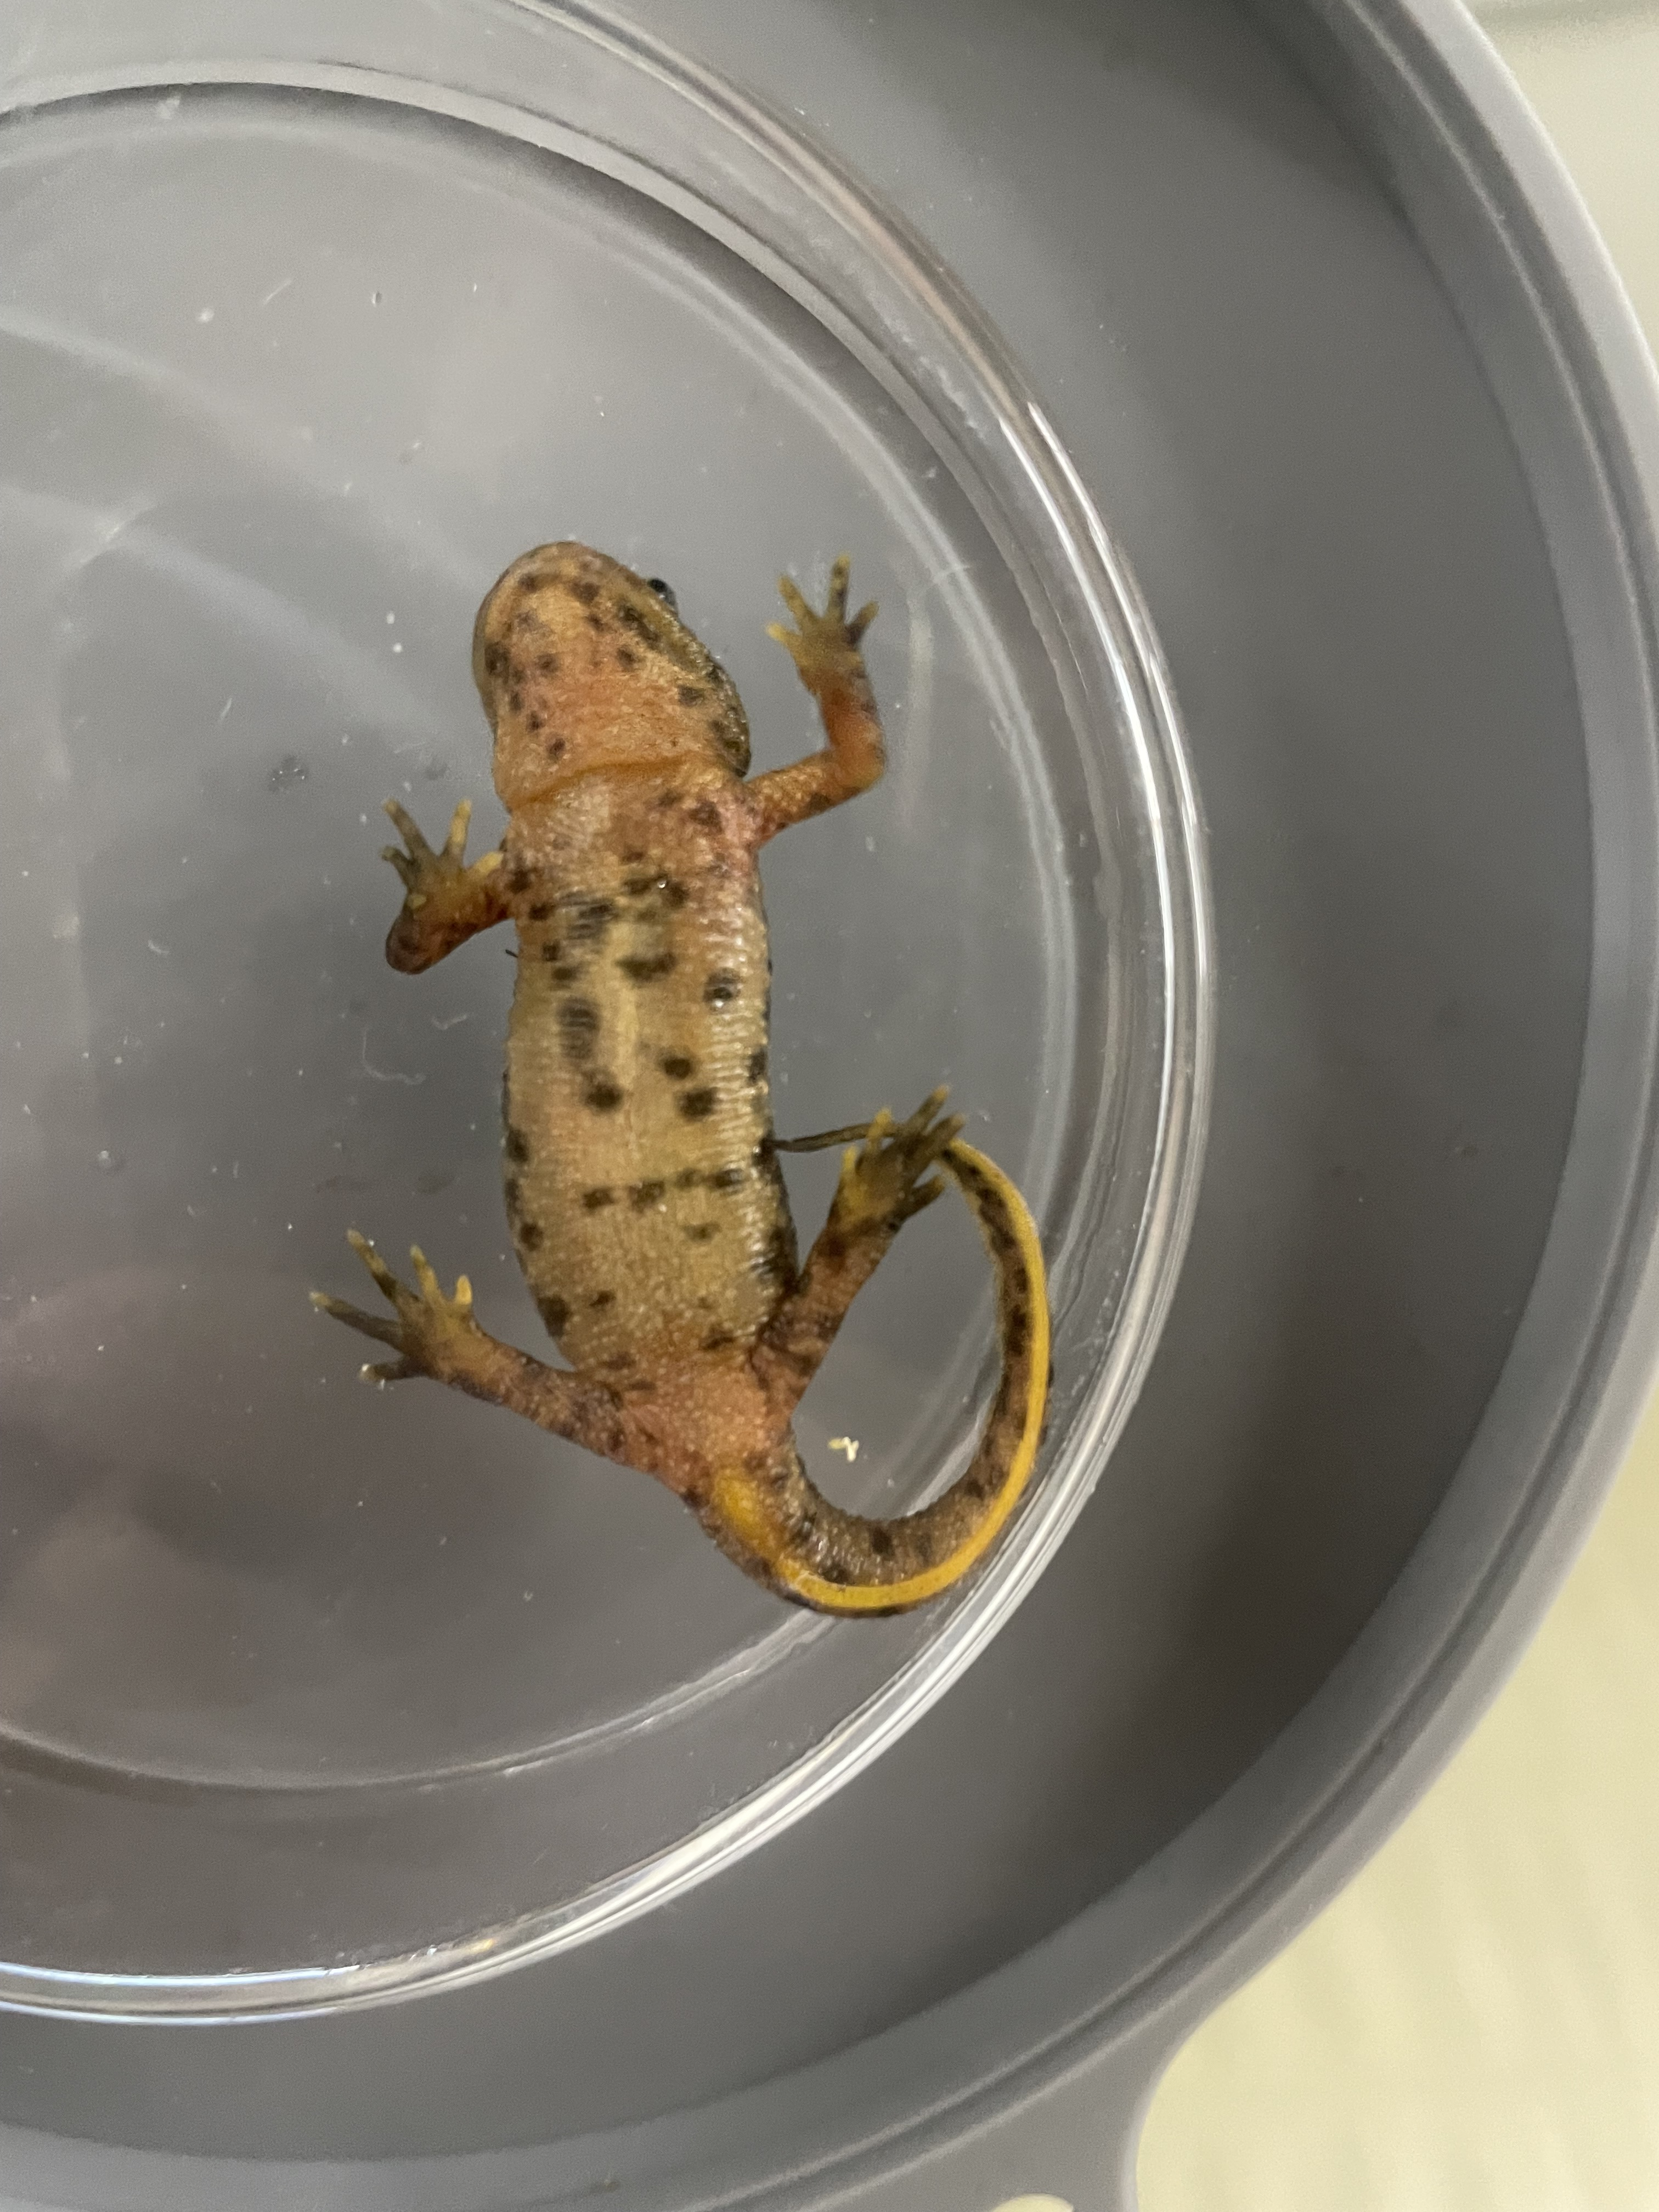newt_ribbed: (504, 848, 798, 1369)
